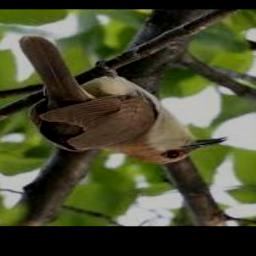Cuckoo: (19, 36, 225, 165)
